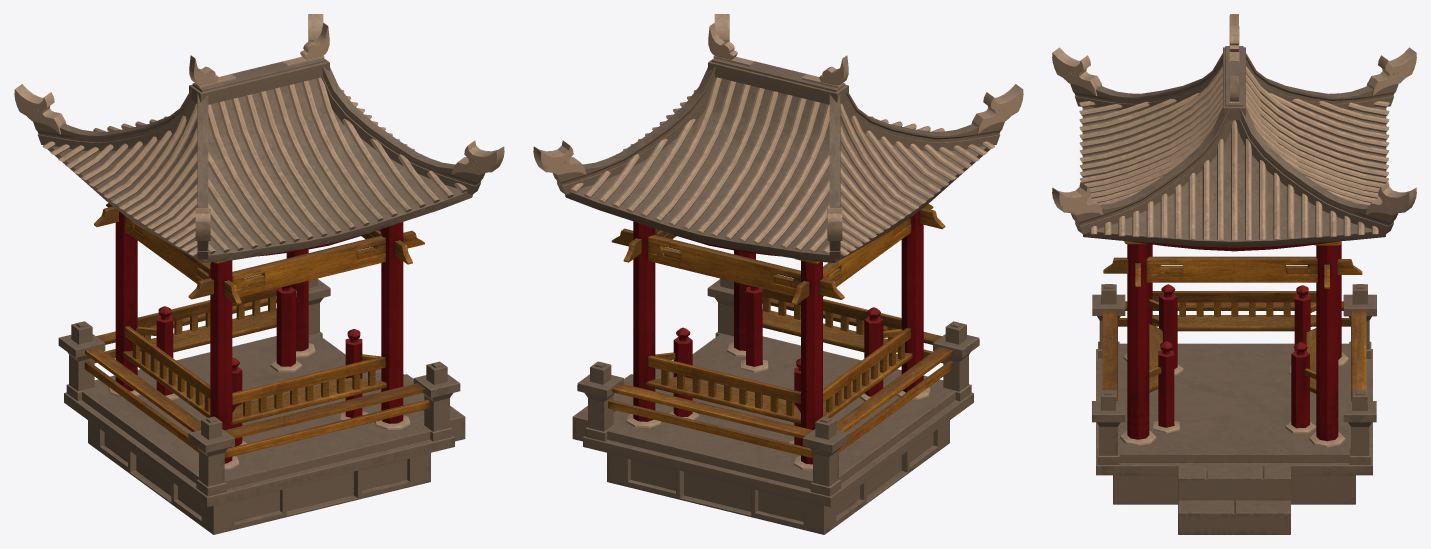
File: pavilion_12.fbx
3 views of the same model, side by side, from view 1: azimuth 30°, elevation 25°; view 2: azimuth 150°, elevation 25°; view 3: azimuth 270°, elevation 25° (orthographic). The views are drawn at different scales.
Visible parts, largest first — view 1: liangting_12; view 2: liangting_12; view 3: liangting_12.
Part boxes in pixels (x1,y1,x2,y2): liangting_12: [14, 14, 504, 534]; liangting_12: [533, 14, 1023, 534]; liangting_12: [1052, 14, 1416, 534].
Size of the model in its own units: 1312 by 1598 by 1294.
